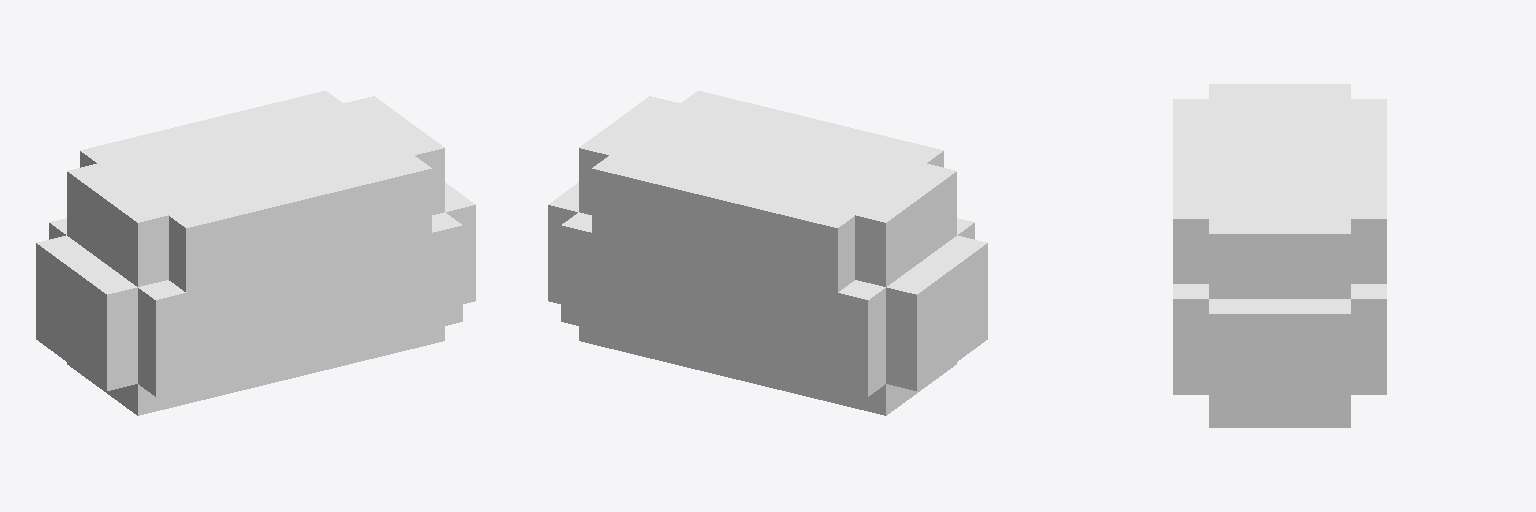
File: male-20.obj
3 renders of one model, left to right at view 1: azimuth 30°, elevation 25°; view 2: azimuth 150°, elevation 25°; view 3: azimuth 270°, elevation 25°, orthographic.
Parts seen in each view (by area): view 1: object 1; view 2: object 1; view 3: object 1.
Boxes of the visible parts, x1,y1,x2,y2 form: object 1: [36, 91, 475, 415]; object 1: [548, 91, 987, 415]; object 1: [1173, 84, 1386, 427].
Size of the model in its own units: 1.2 by 0.6 by 0.6.